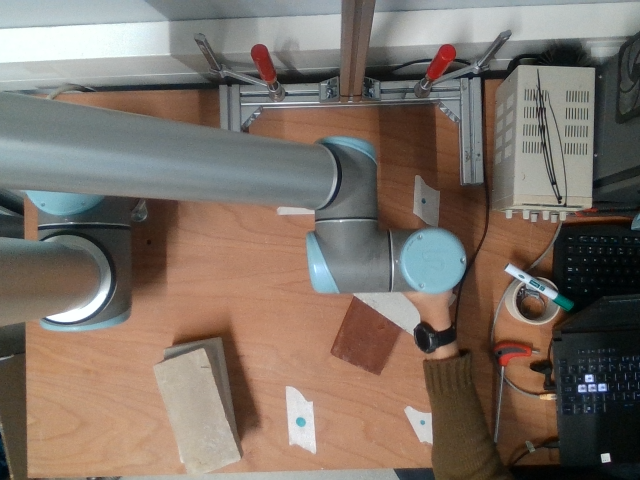brick: (154, 352, 237, 474)
